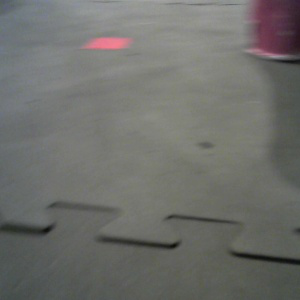Right: (242, 1, 300, 61)
